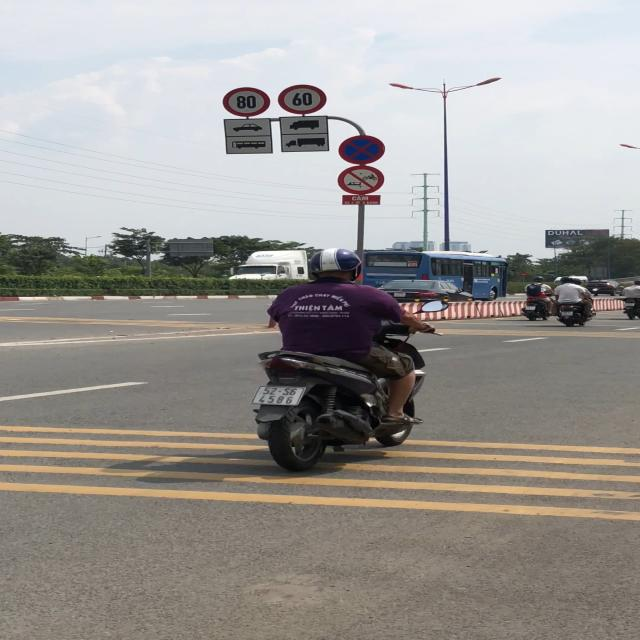Bien bao cam dung xe va do xe: (337, 134, 388, 166)
Bien bao toc do toi da cho phep: (278, 84, 332, 115), (220, 87, 272, 116)
